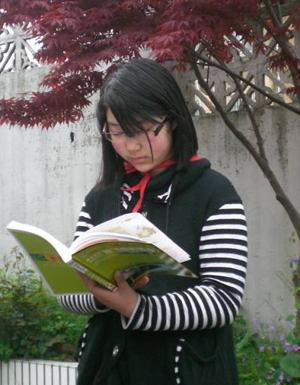person: (57, 59, 247, 385)
